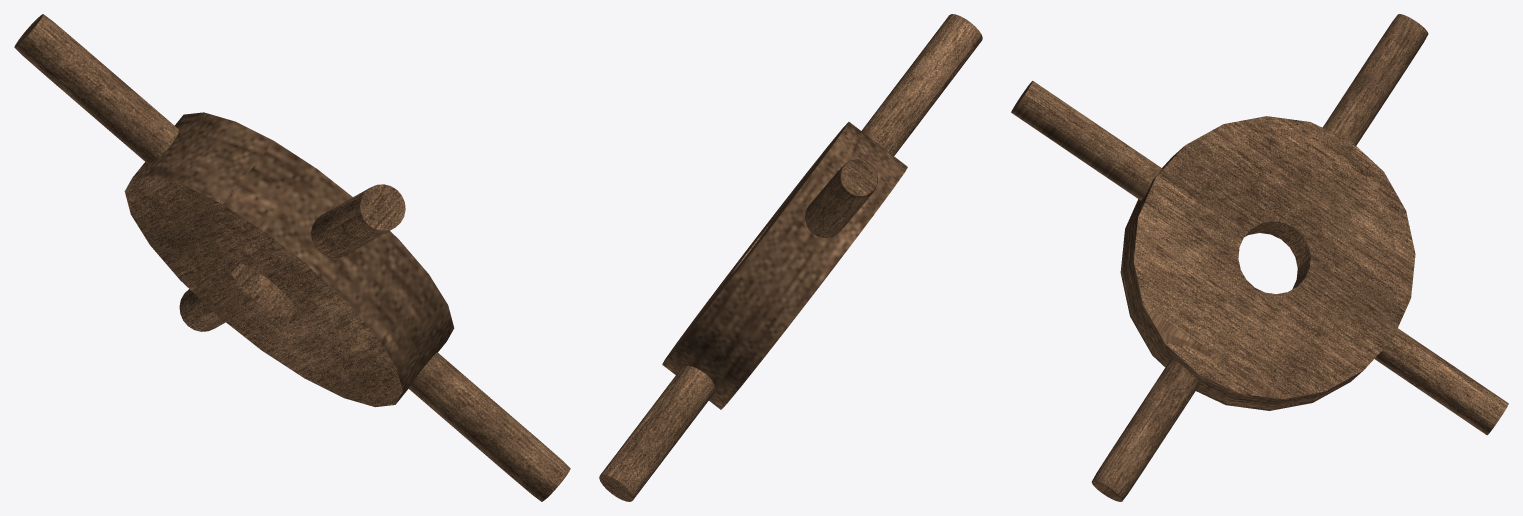
The model's file is tutWHEEL.glb.
The picture shows the model from 3 angles, left to right: view 1: azimuth 30°, elevation 25°; view 2: azimuth 150°, elevation 25°; view 3: azimuth 270°, elevation 25°; orthographic projection. The views are drawn at different scales.
Visible parts, largest first — view 1: pasted__polySurface4; view 2: pasted__polySurface4; view 3: pasted__polySurface4.
Part boxes in pixels (x1,y1,x2,y2): pasted__polySurface4: [14, 14, 570, 501]; pasted__polySurface4: [599, 14, 982, 501]; pasted__polySurface4: [1011, 14, 1508, 501].
Bounding box in the file's own units: 4.5 × 4.99 × 6.33.
Materials: 1 (1 with a texture image).
